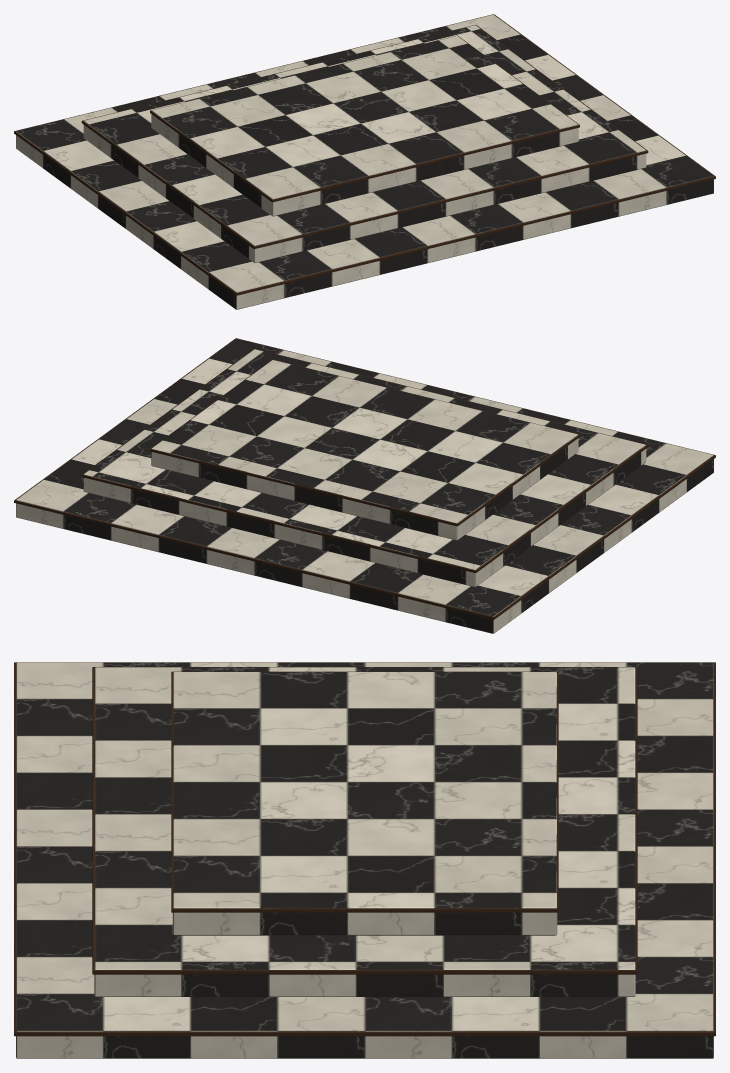
The model's file is dais.glb.
3 renders of one model, top to bottom at view 1: azimuth 30°, elevation 25°; view 2: azimuth 150°, elevation 25°; view 3: azimuth 270°, elevation 25°, orthographic. The views are drawn at different scales.
Visible parts, largest first — view 1: dais; view 2: dais; view 3: dais.
Boxes of the visible parts, bbox=[...] form: dais: bbox=[14, 14, 715, 309]; dais: bbox=[14, 338, 715, 633]; dais: bbox=[14, 662, 715, 1058].
Bounding box in the file's own units: 5.02 × 0.5401 × 4.02.
Materials: 2 (2 with a texture image).
